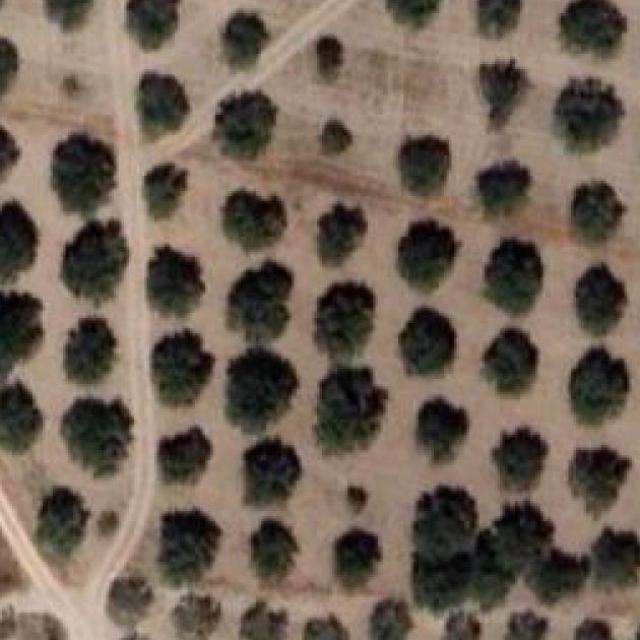Tree: (313, 359, 390, 456), (226, 348, 296, 435), (222, 262, 294, 344), (64, 218, 126, 302), (316, 275, 378, 358), (399, 211, 461, 293), (480, 235, 546, 312), (552, 77, 618, 152), (141, 247, 205, 323), (569, 344, 632, 421), (148, 333, 212, 408), (214, 88, 278, 162), (51, 138, 111, 216), (154, 506, 216, 579), (68, 399, 127, 474), (412, 484, 477, 550), (565, 178, 625, 249), (243, 435, 302, 506), (401, 303, 459, 374), (571, 440, 627, 513), (220, 189, 288, 249), (311, 199, 365, 273), (408, 544, 468, 610), (574, 262, 627, 335), (560, 0, 624, 60), (486, 325, 538, 396), (137, 67, 190, 136), (491, 428, 548, 492), (480, 59, 530, 131), (0, 287, 43, 369), (490, 503, 550, 561), (36, 489, 86, 558), (394, 135, 446, 199), (420, 392, 470, 457), (532, 544, 590, 600), (0, 204, 43, 278), (59, 323, 111, 384), (476, 160, 530, 218), (590, 530, 639, 592), (156, 428, 212, 480), (467, 542, 512, 604), (224, 8, 268, 69), (128, 0, 185, 47), (329, 529, 378, 583), (0, 384, 41, 447), (142, 160, 185, 220), (170, 592, 222, 640), (255, 521, 294, 584), (106, 574, 149, 621), (385, 0, 449, 31), (244, 597, 286, 640), (41, 0, 90, 36), (474, 0, 520, 36), (15, 609, 66, 640), (0, 33, 23, 99), (374, 599, 411, 640), (502, 605, 545, 640), (313, 34, 345, 78), (320, 118, 353, 157), (441, 610, 480, 640), (302, 615, 348, 640), (0, 128, 20, 180), (573, 617, 614, 640), (341, 481, 370, 512), (58, 72, 85, 101), (96, 506, 119, 536)
